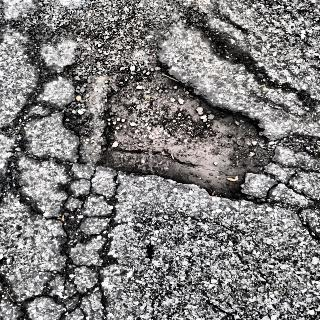alligator-crack: (0, 66, 120, 320), (247, 158, 320, 236)
pothole: (74, 59, 278, 198)
